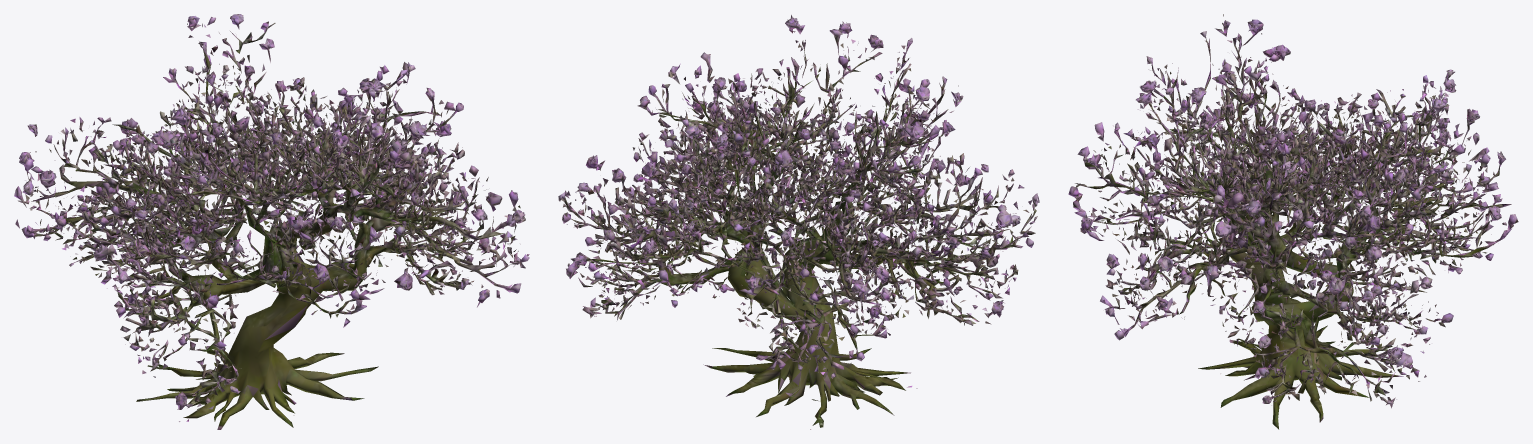
The model's file is A_sprawling_forest_bu.glb.
The picture shows the model from 3 angles, left to right: view 1: azimuth 30°, elevation 25°; view 2: azimuth 150°, elevation 25°; view 3: azimuth 270°, elevation 25°; orthographic projection. The views are drawn at different scales.
Parts seen in each view (by area): view 1: A_sprawling_forest_bu; view 2: A_sprawling_forest_bu; view 3: A_sprawling_forest_bu.
Part boxes in pixels (x1,y1,x2,y2): A_sprawling_forest_bu: (14, 14, 529, 429); A_sprawling_forest_bu: (558, 15, 1039, 429); A_sprawling_forest_bu: (1068, 14, 1518, 429).
Size of the model in its own units: 1.9 by 1.47 by 1.87.
Materials: 1 (1 with a texture image).
